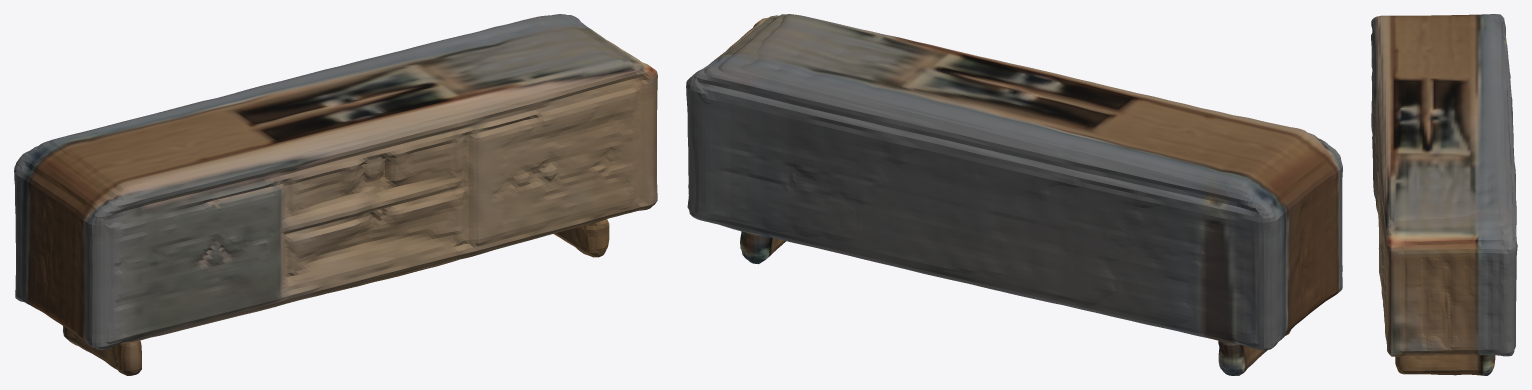
3 renders of one model, left to right at view 1: azimuth 30°, elevation 25°; view 2: azimuth 150°, elevation 25°; view 3: azimuth 270°, elevation 25°, orthographic. The views are drawn at different scales.
Visible parts, largest first — view 1: geometry_0; view 2: geometry_0; view 3: geometry_0.
Part boxes in pixels (x1,y1,x2,y2): geometry_0: (14, 14, 657, 375); geometry_0: (686, 14, 1342, 375); geometry_0: (1371, 14, 1517, 375).
Bounding box in the file's own units: 150 × 50 × 40.
